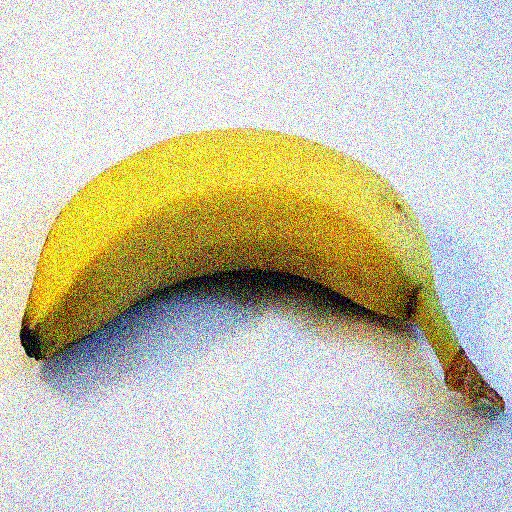fruit: (8, 167, 36, 512)
